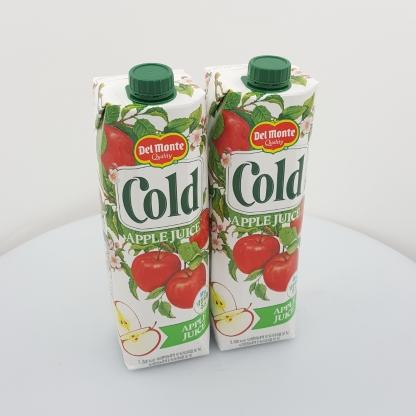------------: (92, 63, 210, 371), (204, 55, 319, 351)
